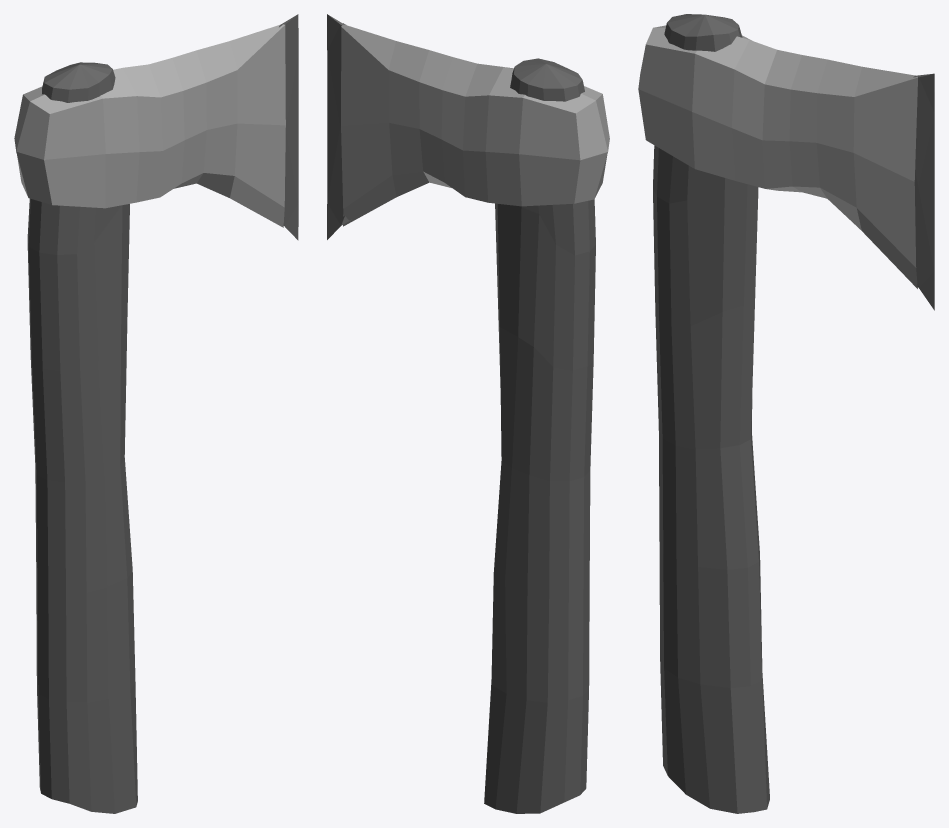
Rendered from Axe.fbx.
The picture shows the model from 3 angles, left to right: view 1: azimuth 30°, elevation 25°; view 2: azimuth 150°, elevation 25°; view 3: azimuth 330°, elevation 25°; orthographic projection. The views are drawn at different scales.
Visible parts, largest first — view 1: Axe; view 2: Axe; view 3: Axe.
Boxes of the visible parts, x1,y1,x2,y2 form: Axe: (14, 14, 298, 813); Axe: (327, 14, 609, 813); Axe: (638, 14, 934, 813).
Size of the model in its own units: 41.56 by 106 by 10.1.
